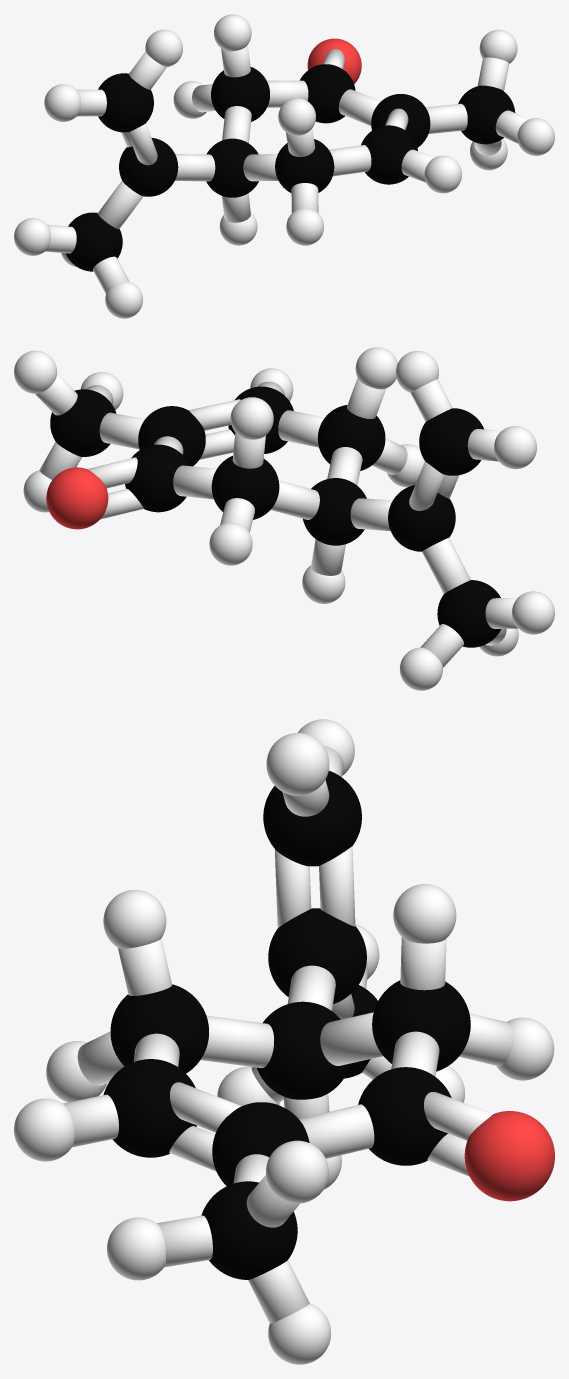
3 renders of one model, top to bottom at view 1: azimuth 30°, elevation 25°; view 2: azimuth 150°, elevation 25°; view 3: azimuth 270°, elevation 25°, orthographic. The views are drawn at different scales.
Parts seen in each view (by area): view 1: molecule; view 2: molecule; view 3: molecule.
Boxes of the visible parts, x1,y1,x2,y2 form: molecule: (14,14,554,318); molecule: (14,347,554,690); molecule: (14,719,554,1364).
Size of the model in its own units: 8.86 by 4.58 by 5.15.
